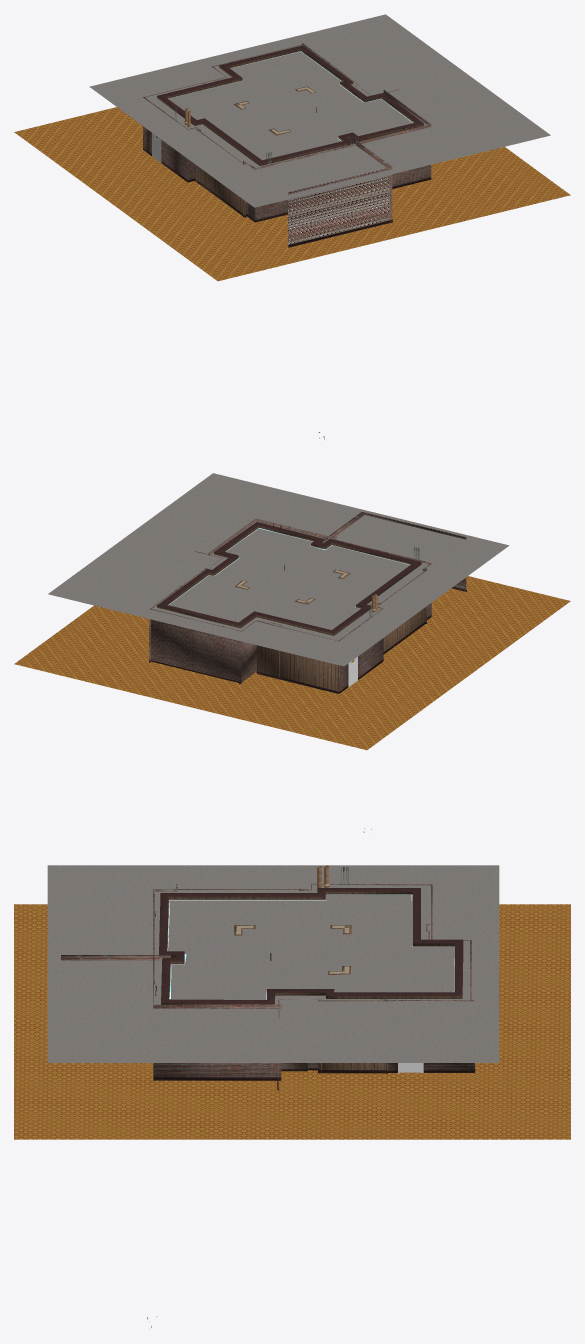
File: clubhouse.glb
The picture shows the model from 3 angles, top to bottom: view 1: azimuth 30°, elevation 25°; view 2: azimuth 150°, elevation 25°; view 3: azimuth 270°, elevation 25°; orthographic projection. The views are drawn at different scales.
Parts seen in each view (by area): view 1: Celling, Floor, BrickWall, WoodenCelling, BrickWallDoorway.001, BrickWall.002, WoodenWall, BrickWallDoorway.002; view 2: Celling, Floor, BrickWall.001, WoodenCelling, WoodenWall.001, BrickWallDoorway.001, WoodenWall, BrickWall, BrickWallCorner.001; view 3: Celling, Floor, WoodenCelling, BrickWall.002, WoodenWall.003, BrickWallDoorway, BrickWall.
Part boxes in pixels (x1=…): Celling: x1=89, y1=14, x2=550, y2=207; Floor: x1=14, y1=107, x2=570, y2=281; BrickWall: x1=288, y1=137, x2=392, y2=247; WoodenCelling: x1=157, y1=45, x2=424, y2=165; BrickWallDoorway.001: x1=143, y1=97, x2=201, y2=183; BrickWall.002: x1=356, y1=90, x2=431, y2=188; WoodenWall: x1=195, y1=128, x2=245, y2=217; BrickWallDoorway.002: x1=243, y1=144, x2=355, y2=222; Celling: x1=48, y1=473, x2=509, y2=666; Floor: x1=14, y1=576, x2=570, y2=750; BrickWall.001: x1=151, y1=609, x2=241, y2=683; WoodenCelling: x1=157, y1=522, x2=421, y2=635; WoodenWall.001: x1=257, y1=621, x2=339, y2=693; BrickWallDoorway.001: x1=338, y1=603, x2=383, y2=693; WoodenWall: x1=378, y1=571, x2=425, y2=654; BrickWall: x1=322, y1=512, x2=466, y2=591; BrickWallCorner.001: x1=238, y1=620, x2=281, y2=684; Celling: x1=47, y1=865, x2=499, y2=1062; Floor: x1=14, y1=904, x2=570, y2=1139; WoodenCelling: x1=159, y1=888, x2=463, y2=1004; BrickWall.002: x1=153, y1=955, x2=281, y2=1080; WoodenWall.003: x1=318, y1=1000, x2=385, y2=1073; BrickWallDoorway: x1=383, y1=1000, x2=475, y2=1072; BrickWall: x1=61, y1=955, x2=170, y2=960.
Bounding box in the file's own units: 23.96 × 19.78 × 23.96.
113 materials, 69 textured.
